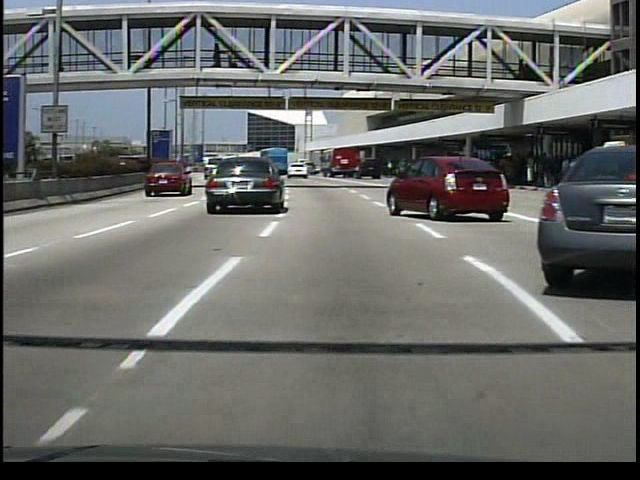person: (212, 43, 227, 70)
